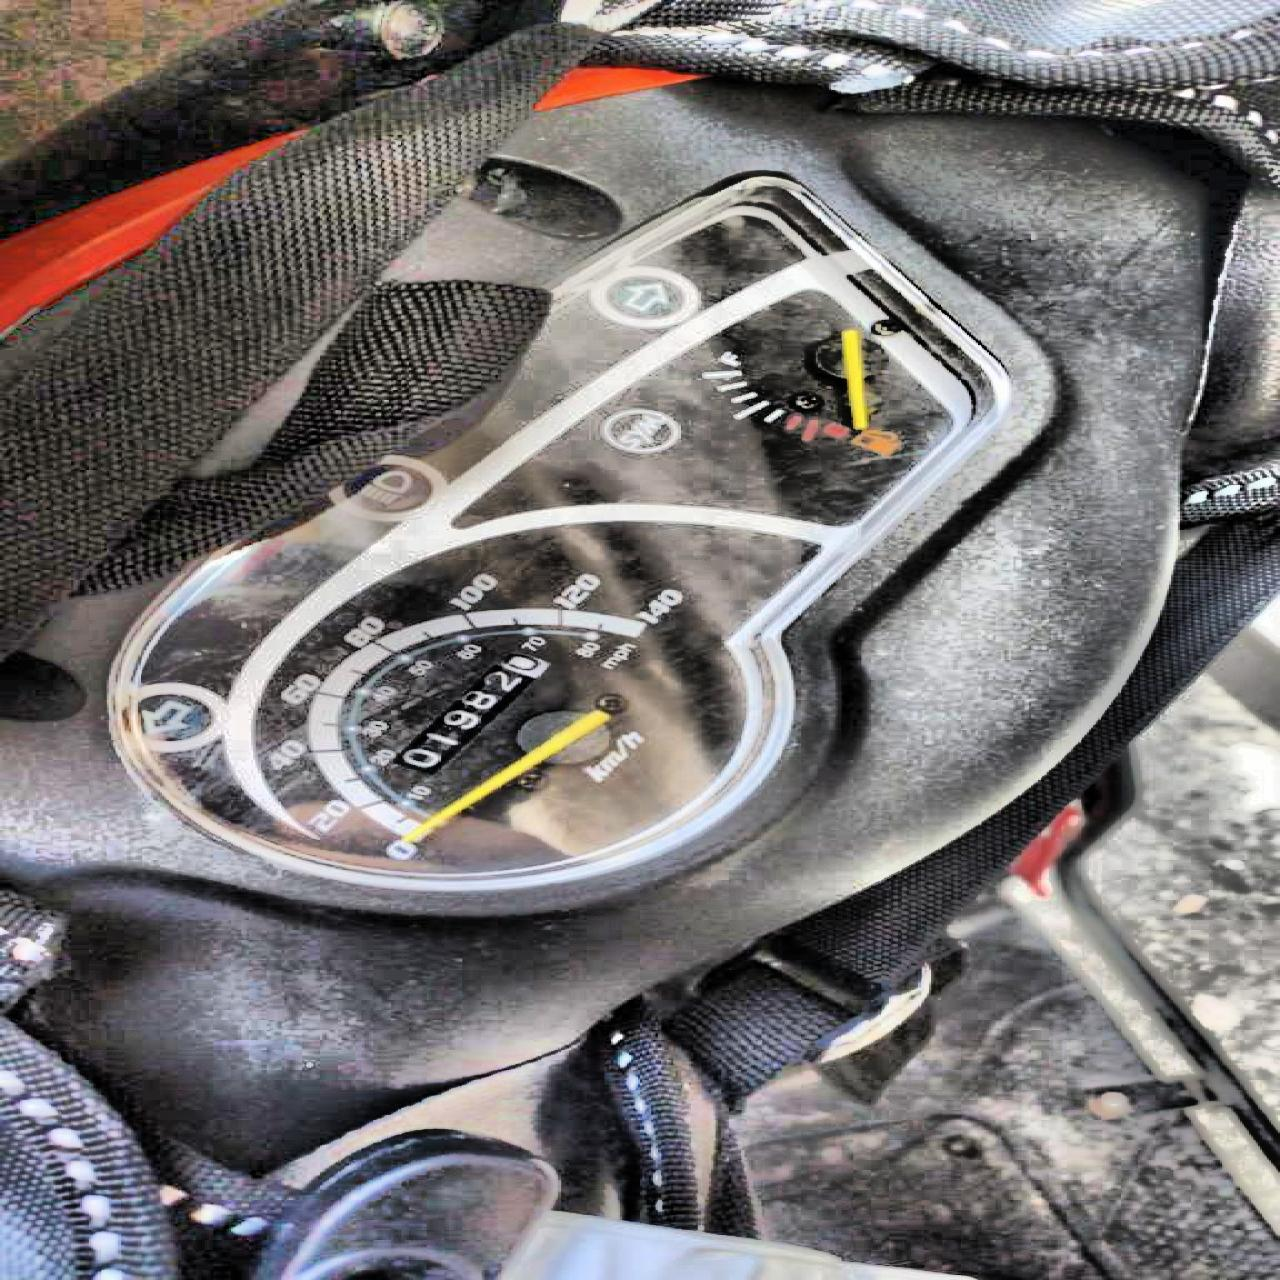0: (400, 745, 438, 765), (501, 652, 536, 669), (459, 645, 481, 653), (413, 659, 431, 667), (382, 685, 392, 694), (382, 749, 392, 756)
1: (420, 730, 458, 744)
2: (482, 670, 520, 690)
5: (407, 665, 424, 674)
6: (452, 649, 471, 659)
8: (458, 689, 493, 709)
9: (440, 708, 478, 728)
odometer: (382, 645, 558, 776)
